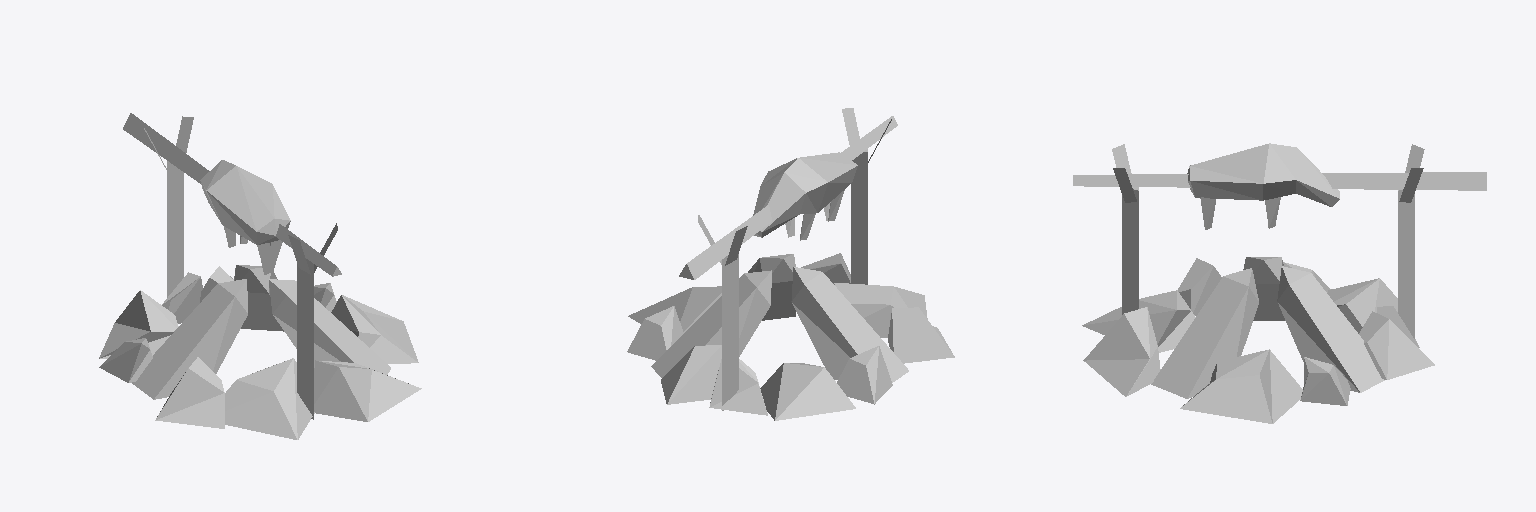
File: firePig.obj
3 views of the same model, side by side, from view 1: azimuth 30°, elevation 25°; view 2: azimuth 150°, elevation 25°; view 3: azimuth 270°, elevation 25° (orthographic).
Visible parts, largest first — view 1: FirepitPig(m0); view 2: FirepitPig(m0); view 3: FirepitPig(m0).
Part boxes in pixels (left/top/right/bottom): FirepitPig(m0): left=99, top=113, right=421, bottom=439; FirepitPig(m0): left=627, top=108, right=954, bottom=420; FirepitPig(m0): left=1073, top=143, right=1486, bottom=423.
Bounding box in the file's own units: 2.26 × 1.51 × 2.81.